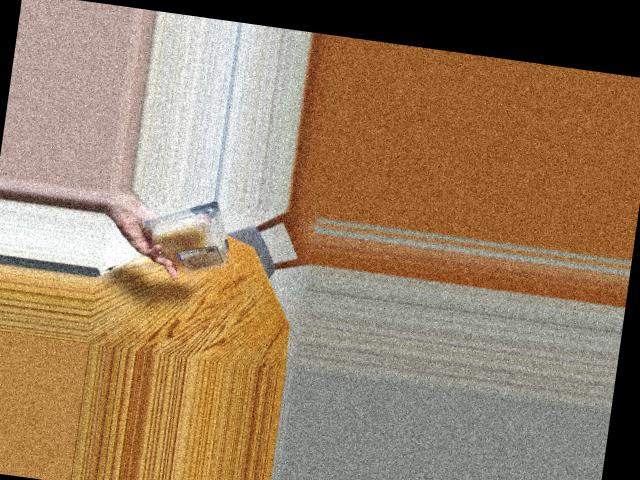cheese: (147, 199, 234, 276)
